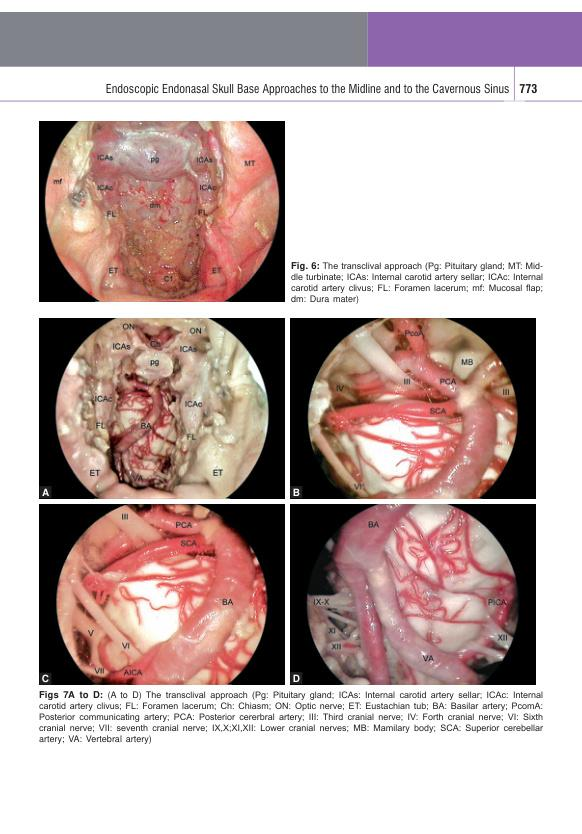caption: (37, 689, 545, 745), (289, 260, 544, 305), (291, 673, 301, 684), (41, 487, 50, 498), (292, 487, 301, 498), (41, 673, 50, 684)
header: (105, 81, 510, 97)
image: (38, 120, 286, 303), (289, 317, 536, 500), (39, 317, 285, 500), (290, 503, 536, 686), (39, 503, 285, 685)
